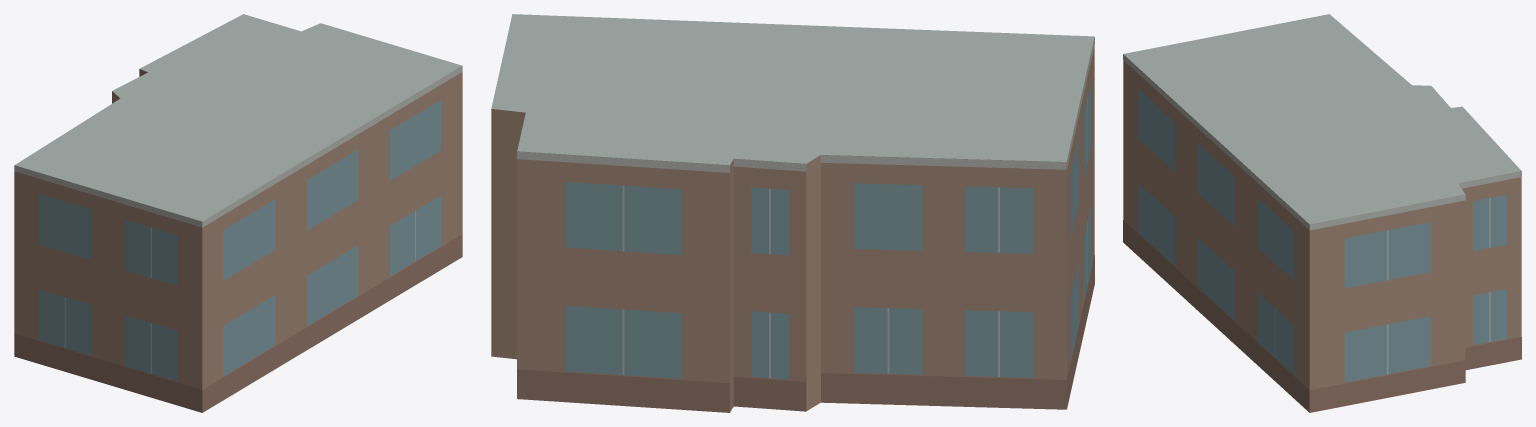
File: survey-upis-32638913.glb
The picture shows the model from 3 angles, left to right: view 1: azimuth 30°, elevation 25°; view 2: azimuth 150°, elevation 25°; view 3: azimuth 270°, elevation 25°; orthographic projection. The views are drawn at different scales.
Parts seen in each view (by area): view 1: survey-upis-32638913.tmp; view 2: survey-upis-32638913.tmp; view 3: survey-upis-32638913.tmp.
Boxes of the visible parts, box(x1,y1,x2,y2) form: survey-upis-32638913.tmp: box(14, 14, 462, 412); survey-upis-32638913.tmp: box(491, 14, 1094, 412); survey-upis-32638913.tmp: box(1123, 14, 1521, 412).
Bounding box in the file's own units: 18.47 × 7.7 × 14.78.
